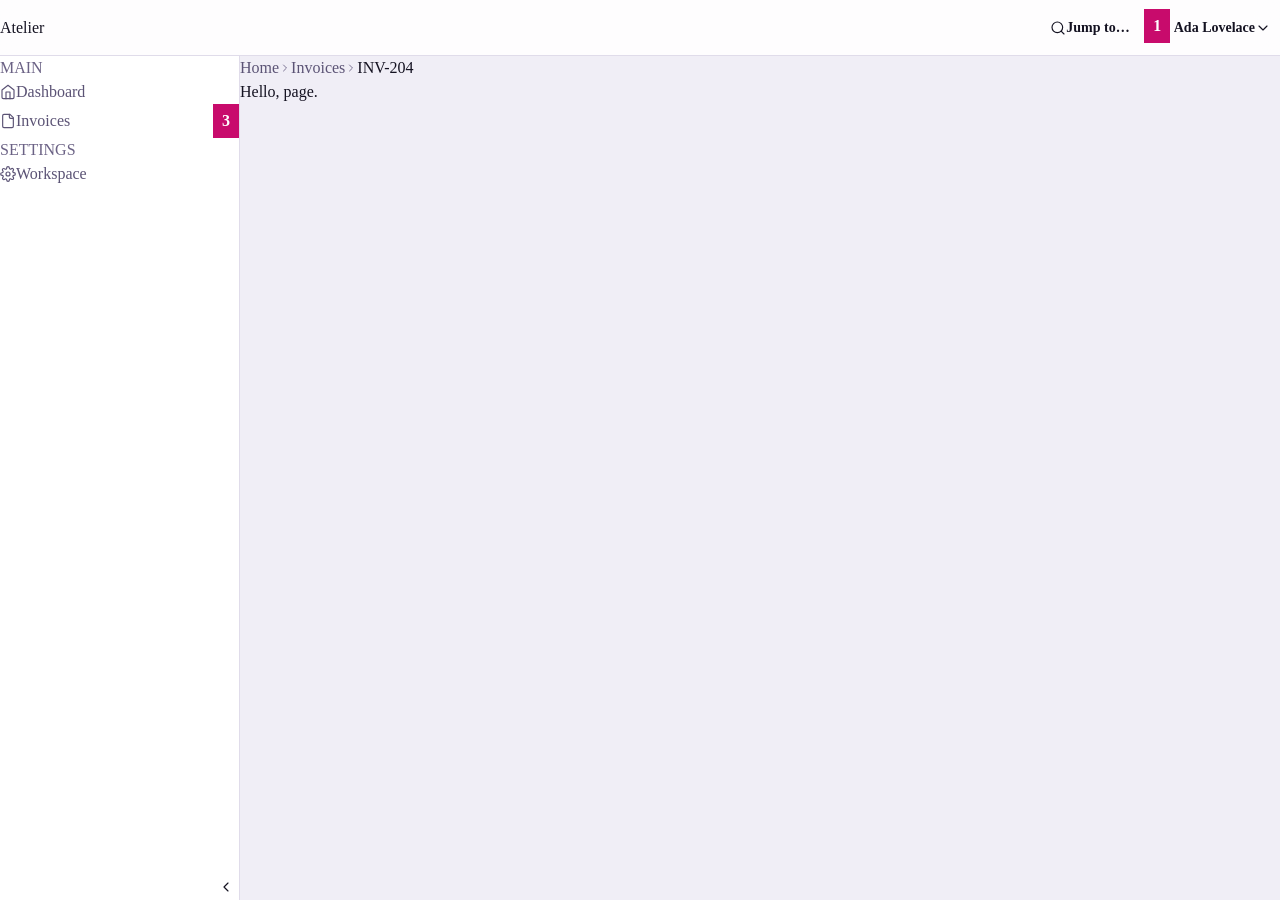
AppShellComponent › renders the bell with the unread count, and a feed inside the popover
Expected: the element with class "ds-shell__bell-badge" reads "1", [1153, 17, 1161, 34]
Open the bell popover
Click the button named "Notifications": [1152, 28] box [1139, 15, 1165, 41]
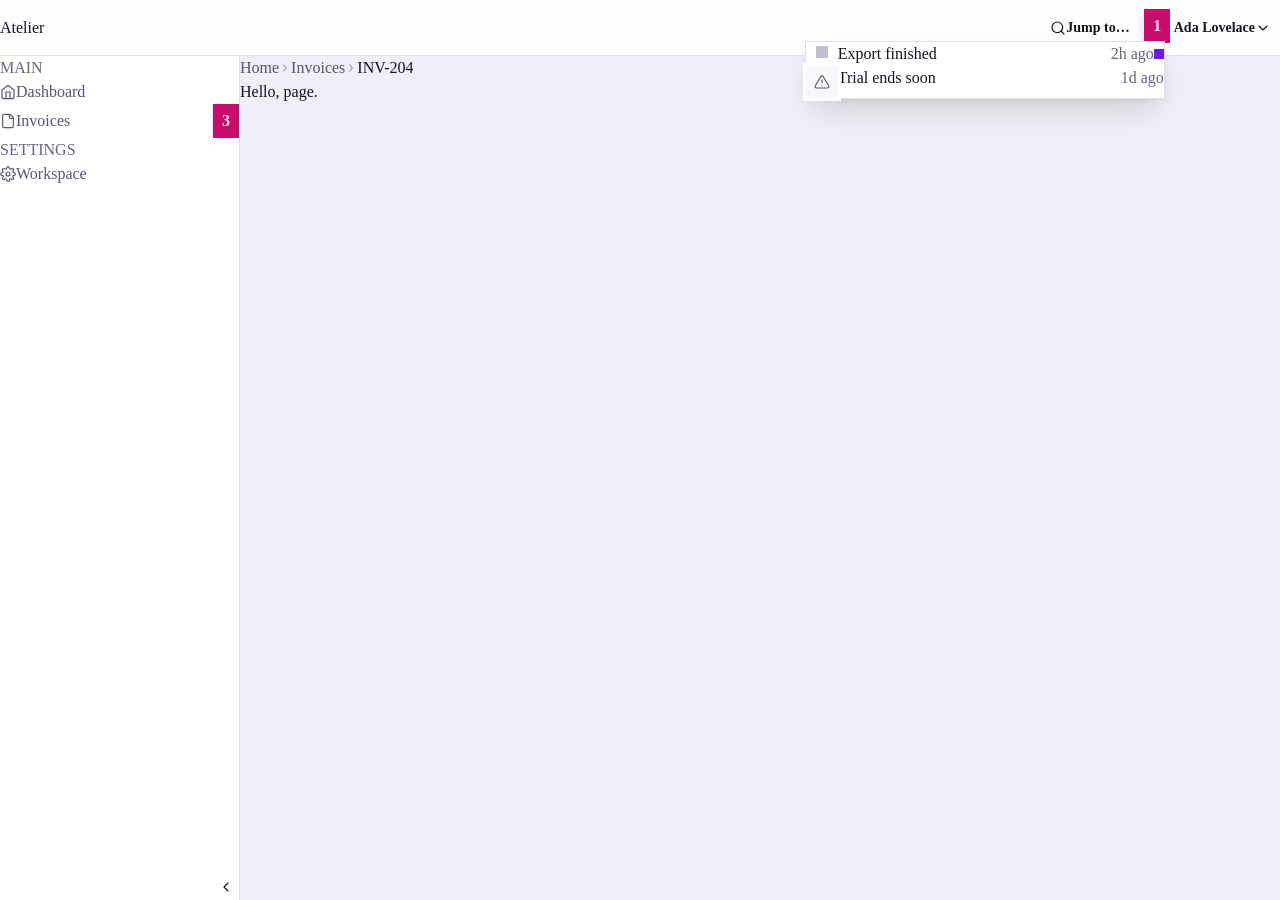
Result: the element showing "Export finished 2h ago Trial ends soon 1d ago" is shown at [806, 42, 1164, 98]
Result: the button with class "ds-feed__unread" is shown at [1154, 49, 1164, 59]
